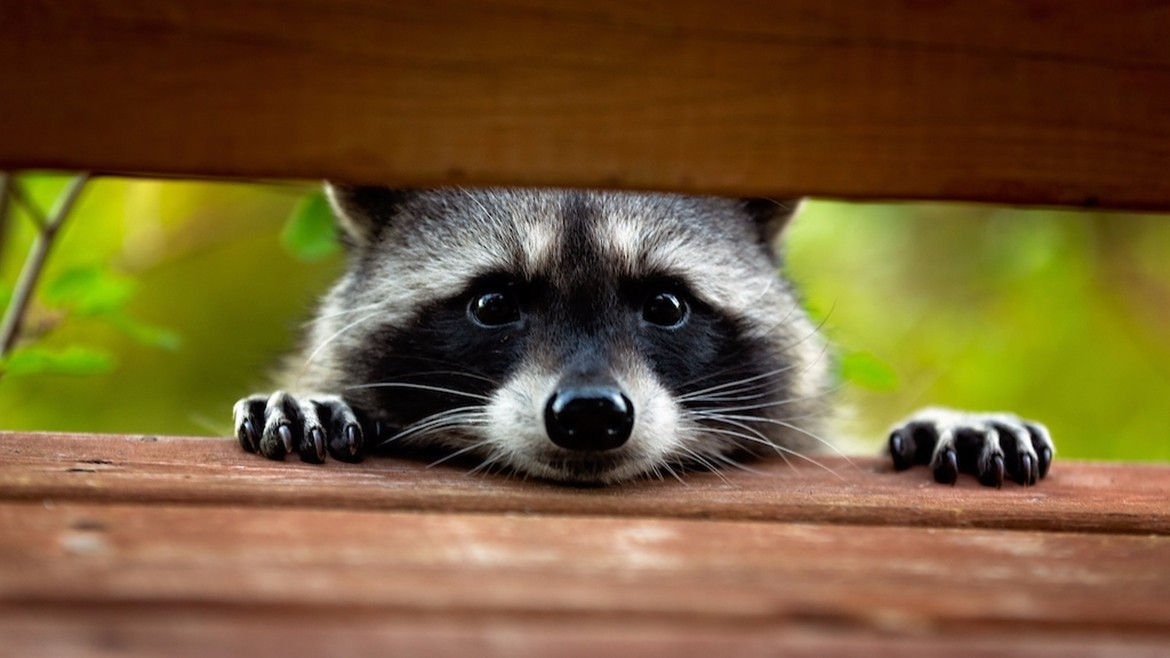raccoon: (216, 126, 1081, 506)
